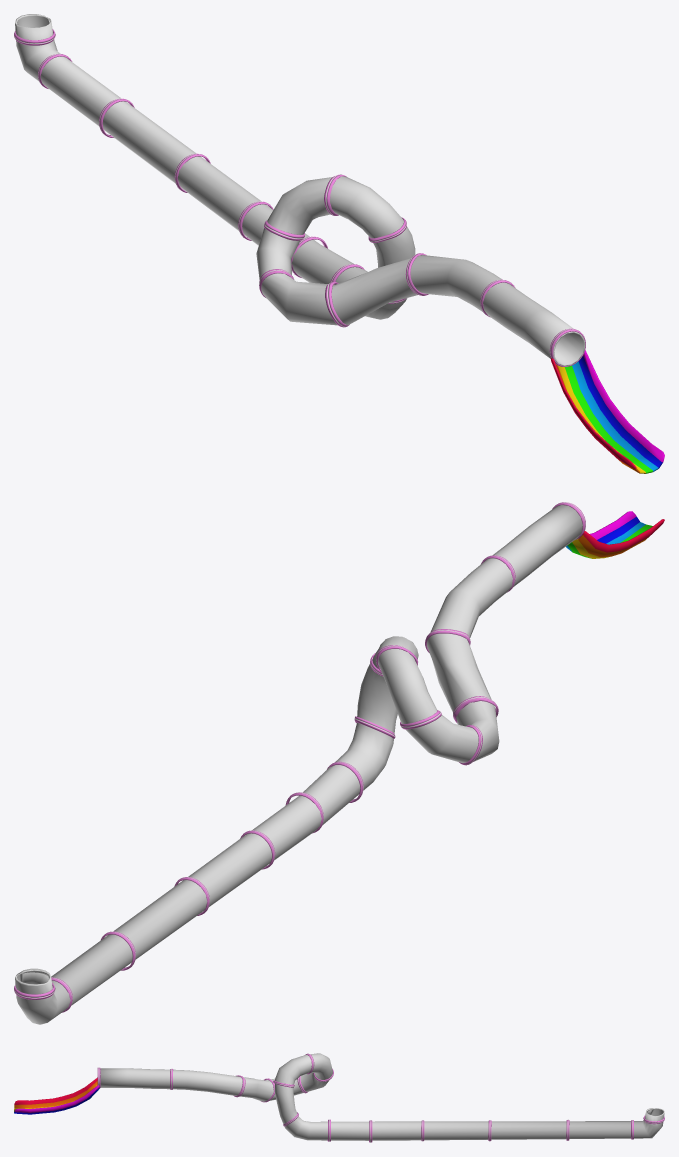
Rendered from CorrectPipe.fbx.
3 renders of one model, top to bottom at view 1: azimuth 30°, elevation 25°; view 2: azimuth 150°, elevation 25°; view 3: azimuth 270°, elevation 25°, orthographic. The views are drawn at different scales.
Visible parts, largest first — view 1: CorrectPipe; view 2: CorrectPipe; view 3: CorrectPipe.
Part boxes in pixels (bbox=[...]): CorrectPipe: bbox=[14, 14, 664, 473]; CorrectPipe: bbox=[14, 502, 664, 1024]; CorrectPipe: bbox=[14, 1053, 664, 1142].
Bounding box in the file's own units: 1692 × 1779 × 13261.
